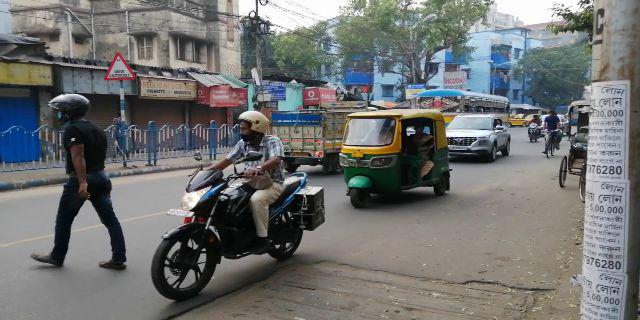Autorickshaw: (343, 116, 451, 197)
Car: (453, 111, 511, 162)
Minitruck: (273, 101, 361, 169)
Motorbike: (150, 108, 326, 295)
